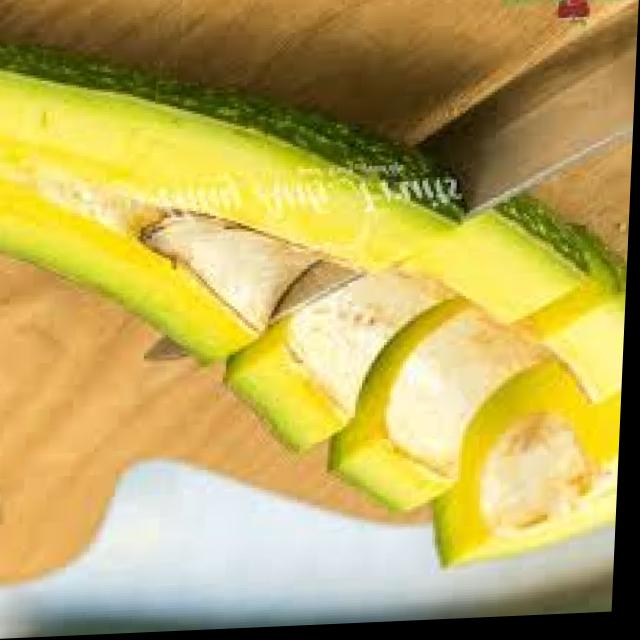Bo: (1, 38, 627, 594)
